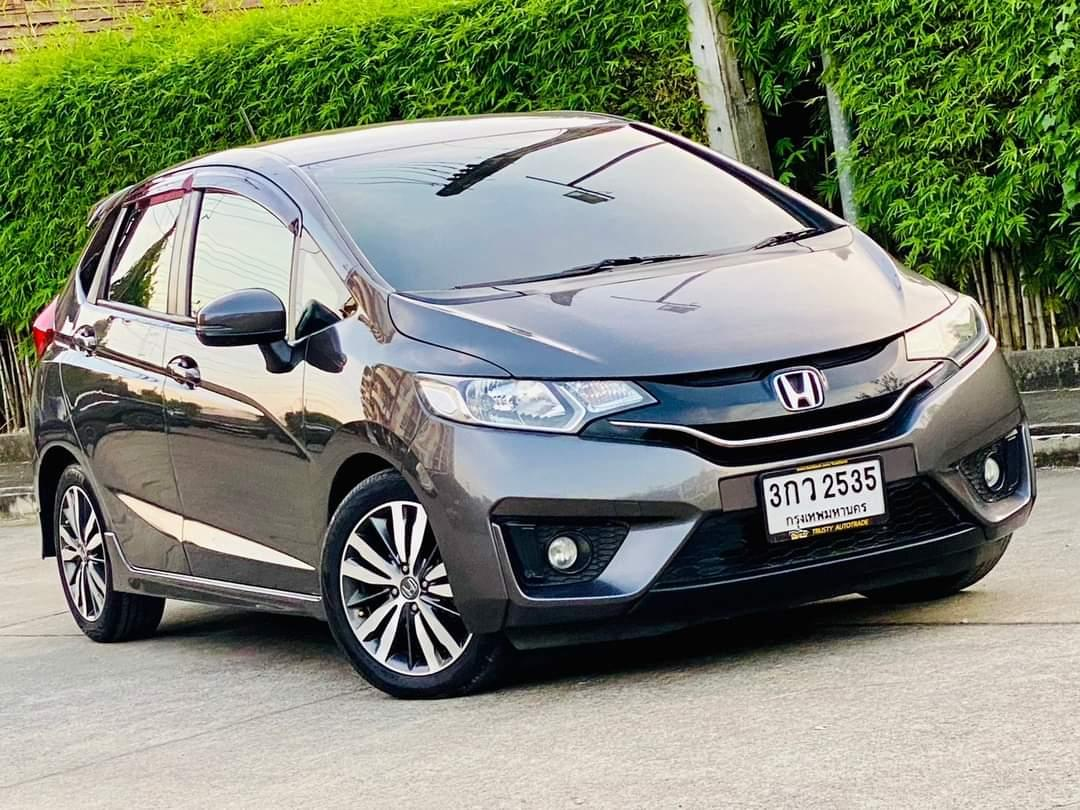license-plate: (755, 451, 892, 546)
